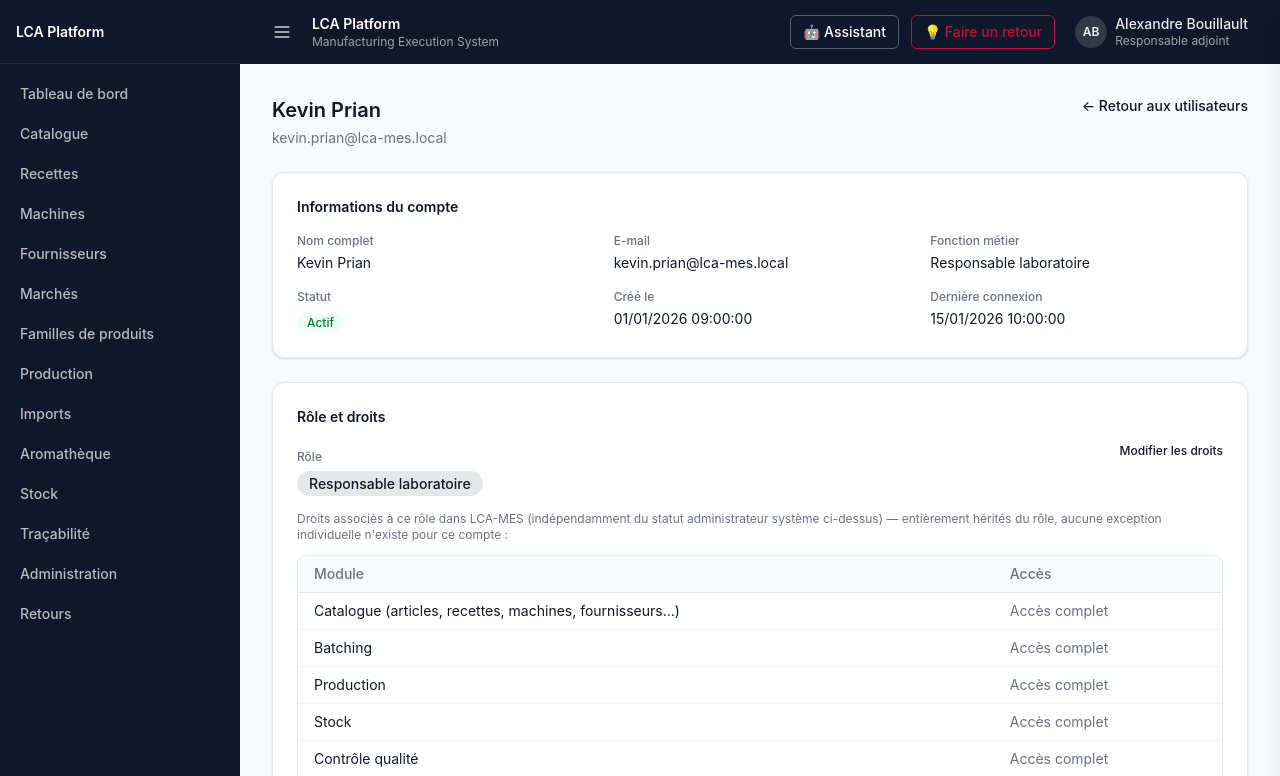
Test case: UserDetailPage › modification des droits › affiche le formulaire de modification au clic sur « Modifier les droits »
The width and height of the screenshot is (1280, 776).
What coordinates should you click on to do the following:
click the button "Modifier les droits"
I would click on:
 (1171, 451)
Its box is [1120,443,1223,459].
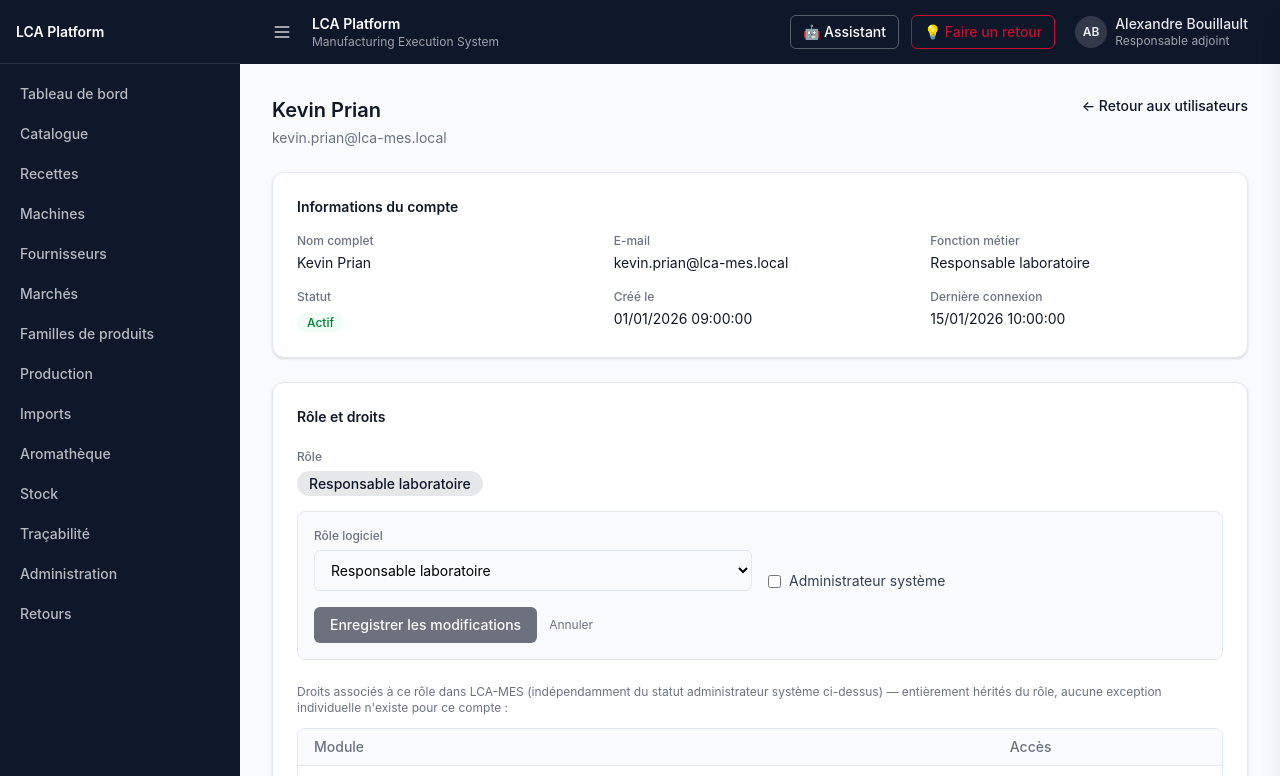
Expected: the element with test id "rights-edit-form" is shown, [297,511,1223,660]
Expected: the dropdown labelled "Rôle logiciel" shows "Responsable laboratoire", [314,550,752,591]
